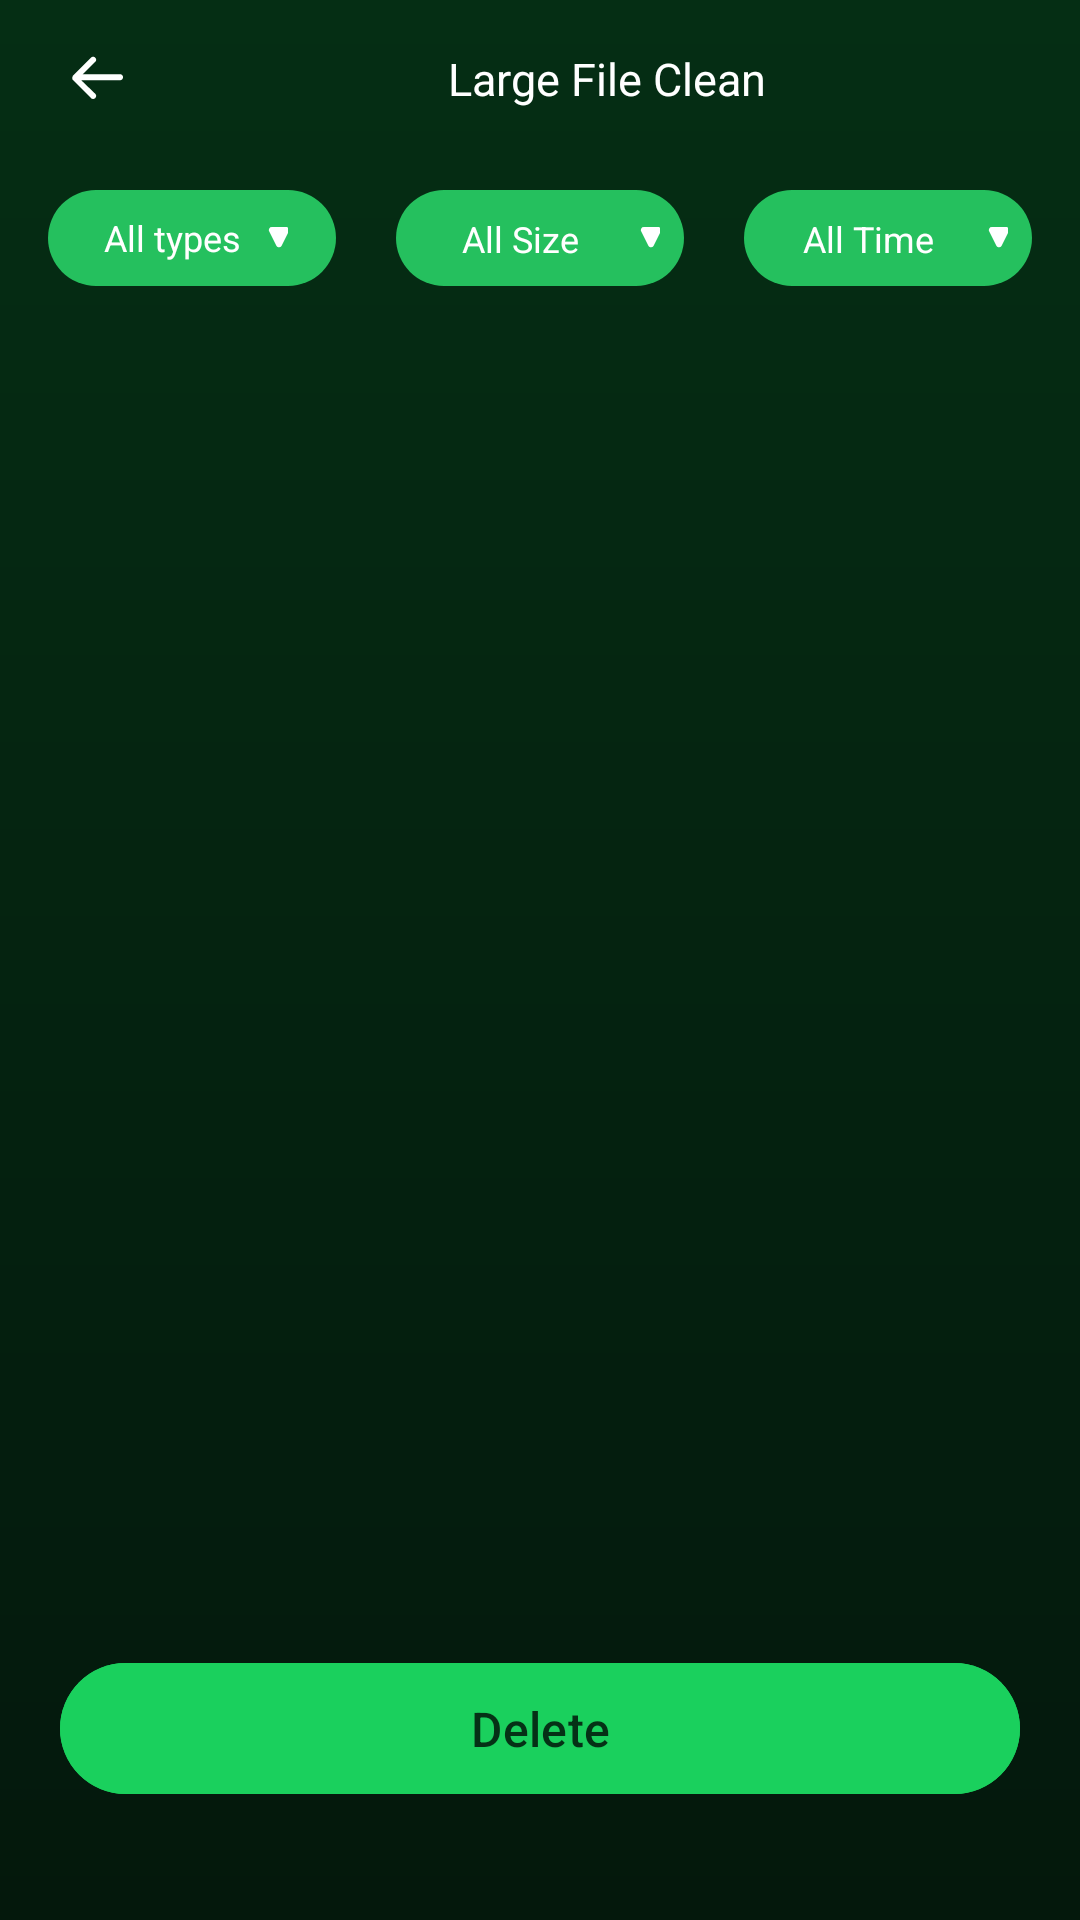

Named icons in this screenshot (1080px x 1920px) and their centers, point (x, y):
back: point (97, 77)
